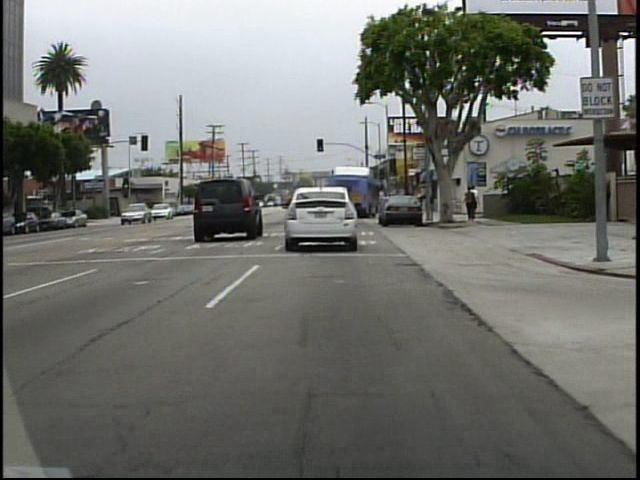person: (463, 184, 479, 224), (471, 182, 482, 221)
